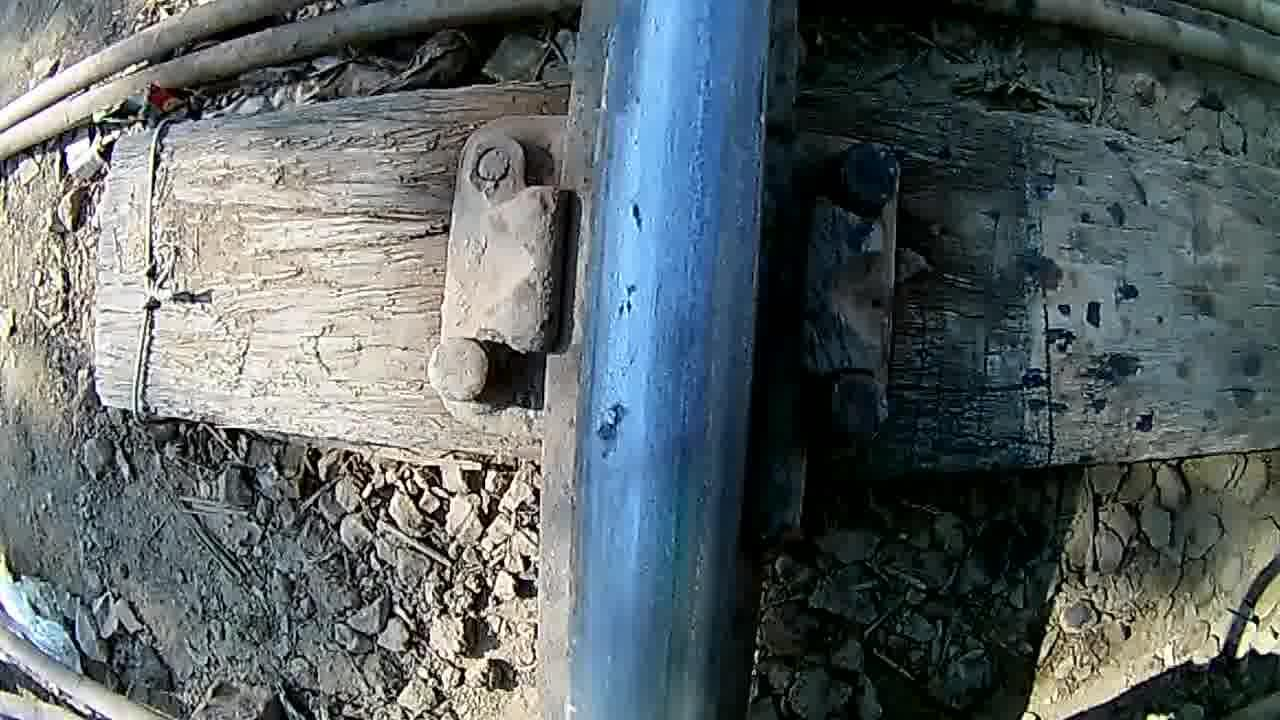crack: (586, 4, 728, 572)
